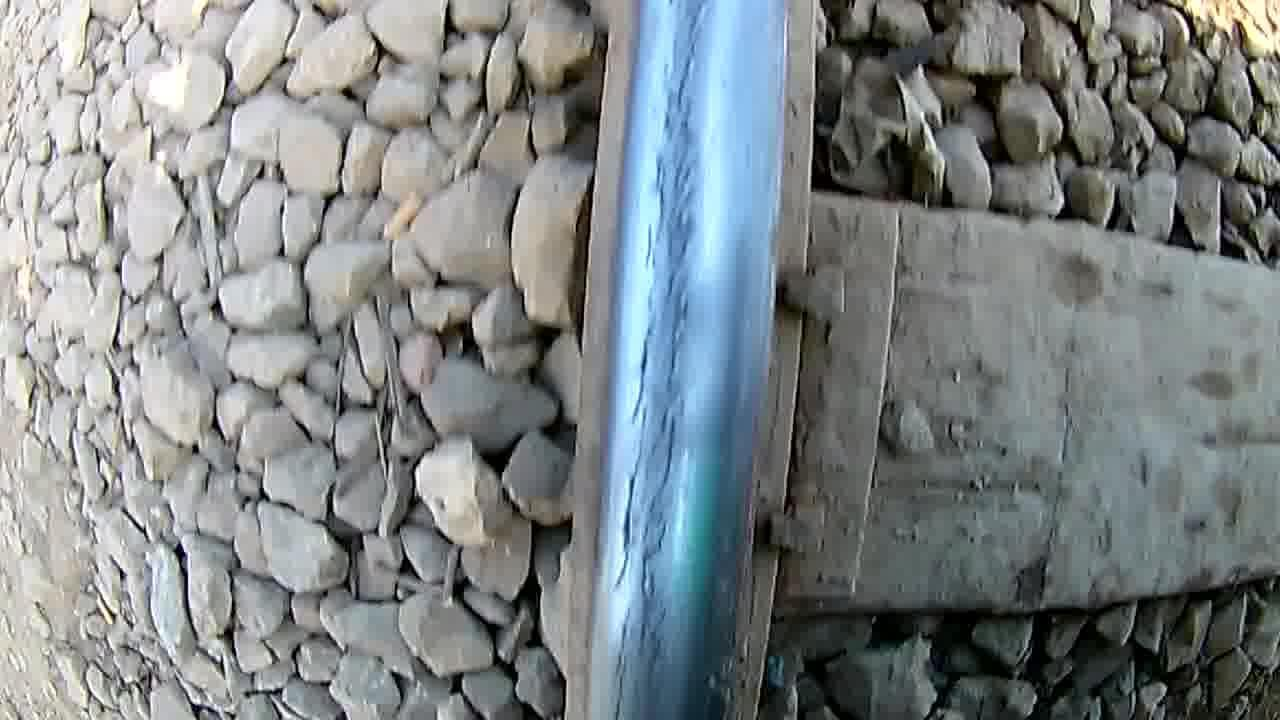crack: (600, 3, 724, 720)
